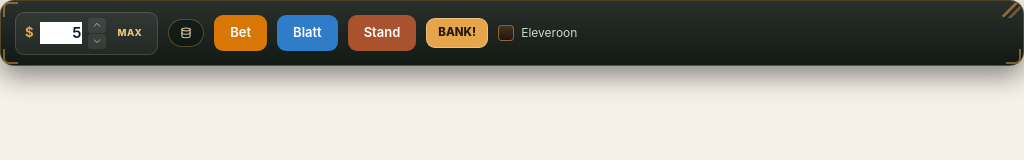
PlayerDock bet amount field › still supports the +/- steppers alongside direct typing
Step 1. Click the button named "Increase bet" → coordinates (96, 25), box [88,18,106,32]
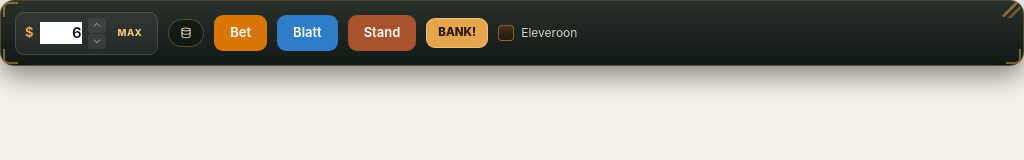
Now the number field named "Bet amount" holds "6", box [40,22,82,44]
Step 2. Click the button named "Decrease bet" → coordinates (96, 41), box [88,34,106,48]
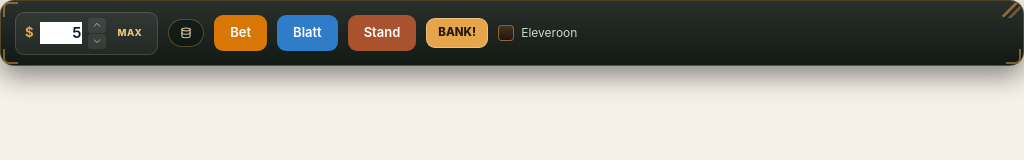
Step 3. Click the button named "Decrease bet" → coordinates (96, 41), box [88,34,106,48]
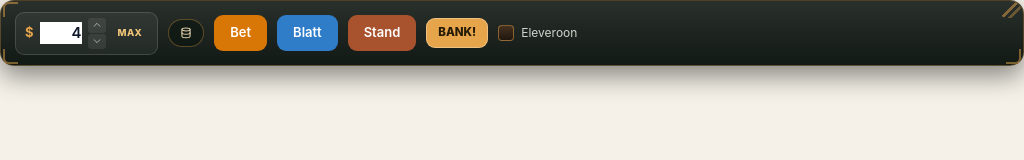
Now the number field named "Bet amount" holds "4", box [40,22,82,44]
